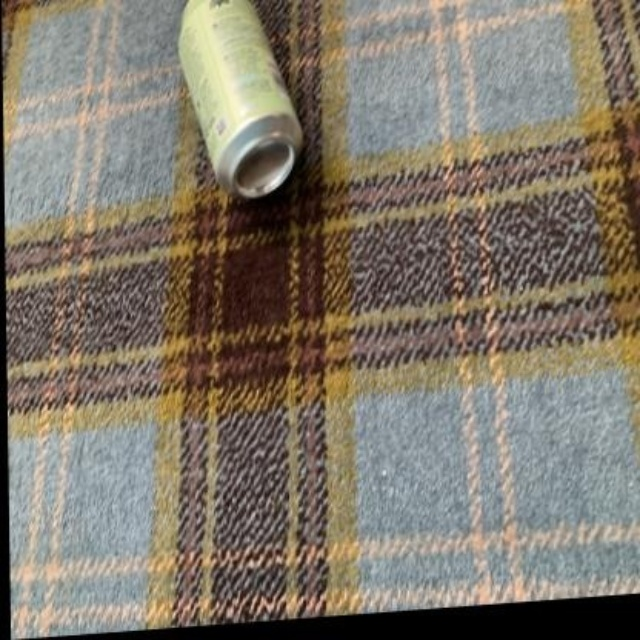trash: (178, 0, 302, 197)
